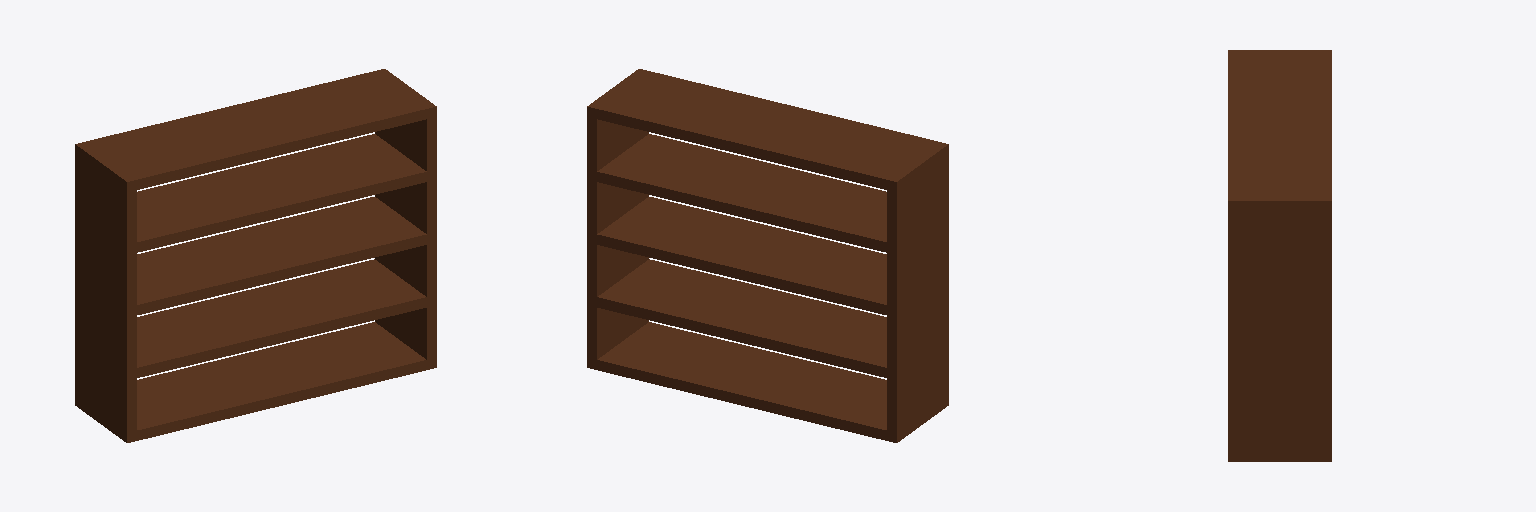
3 renders of one model, left to right at view 1: azimuth 30°, elevation 25°; view 2: azimuth 150°, elevation 25°; view 3: azimuth 270°, elevation 25°, orthographic.
Parts seen in each view (by area): view 1: object 1; view 2: object 1; view 3: object 1.
Part boxes in pixels (left/top/right/bottom): object 1: left=75, top=69, right=436, bottom=442; object 1: left=587, top=69, right=948, bottom=442; object 1: left=1228, top=50, right=1331, bottom=461.
Bounding box in the file's own units: 3.1 × 2.5 × 0.9.
Materials: 1 (1 with a texture image).